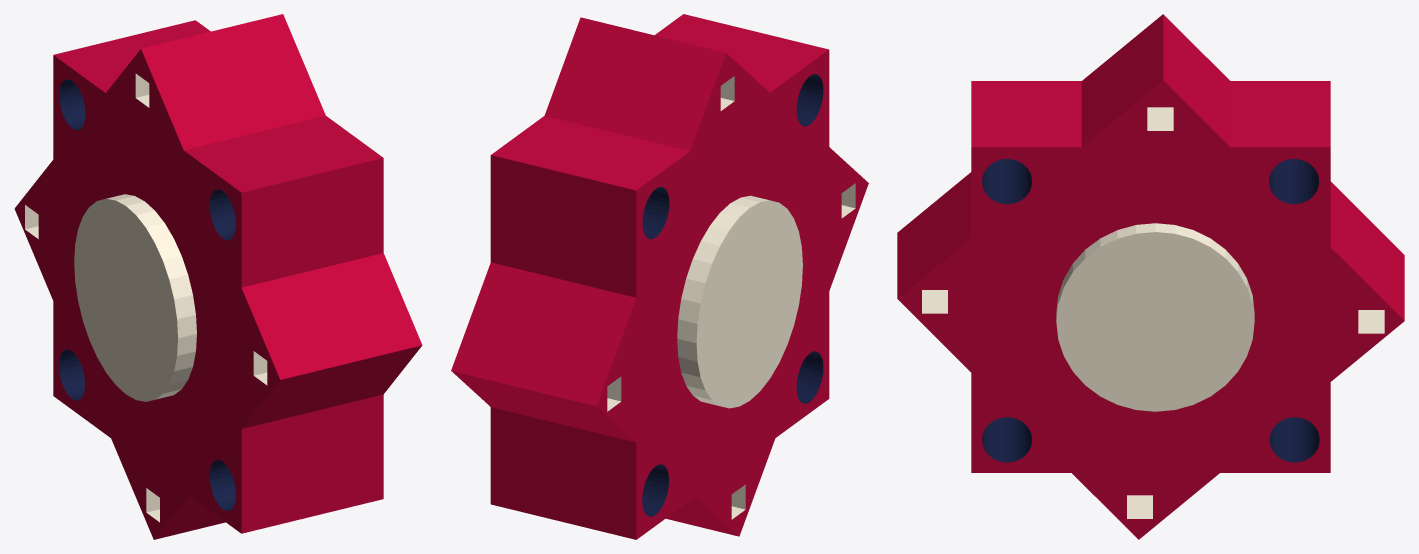
The model's file is Granada Loca.fbx.
3 renders of one model, left to right at view 1: azimuth 30°, elevation 25°; view 2: azimuth 150°, elevation 25°; view 3: azimuth 270°, elevation 25°, orthographic. The views are drawn at different scales.
Visible parts, largest first — view 1: Cube; view 2: Cube; view 3: Cube.
Part boxes in pixels (x1,y1,x2,y2): Cube: [14, 14, 422, 539]; Cube: [451, 14, 868, 539]; Cube: [897, 14, 1404, 539].
Size of the model in its own units: 200 by 512 by 512.
